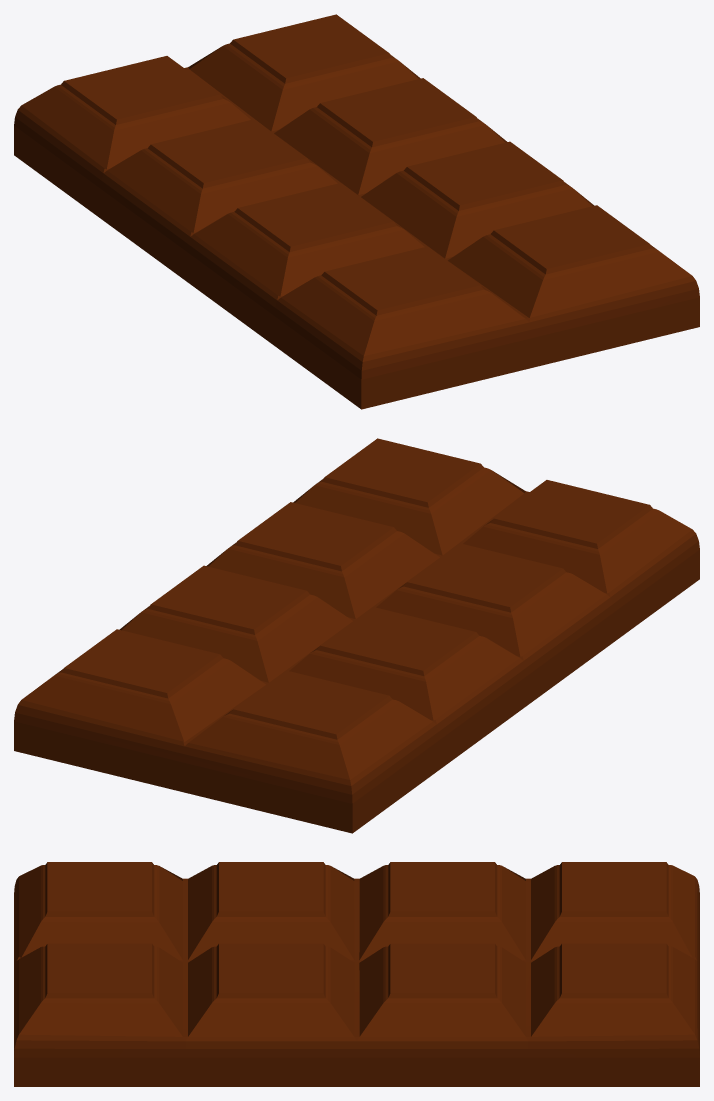
Rendered from Prefab_Chocolat_Lily.fbx.
3 views of the same model, one above another, from view 1: azimuth 30°, elevation 25°; view 2: azimuth 150°, elevation 25°; view 3: azimuth 270°, elevation 25° (orthographic).
Visible parts, largest first — view 1: Cube; view 2: Cube; view 3: Cube.
Part boxes in pixels (x1,y1,x2,y2): Cube: [14, 14, 699, 409]; Cube: [14, 438, 699, 833]; Cube: [14, 862, 699, 1086].
Size of the model in its own units: 9 by 2 by 16.
